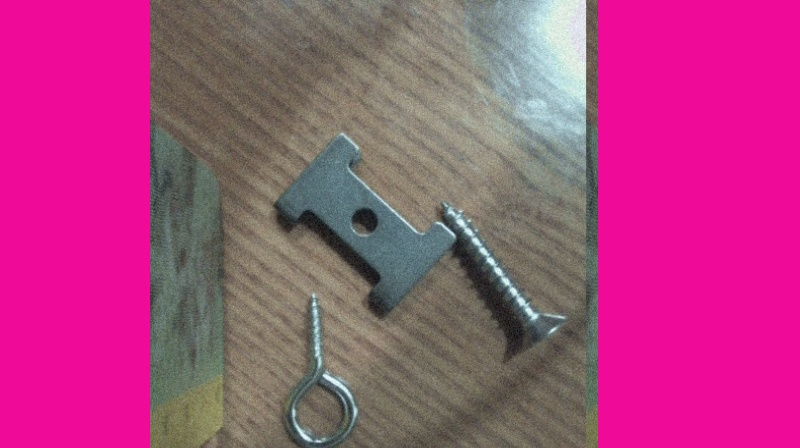O001: (277, 290, 361, 447)
O002: (269, 129, 459, 320)
S001: (432, 197, 567, 357)
